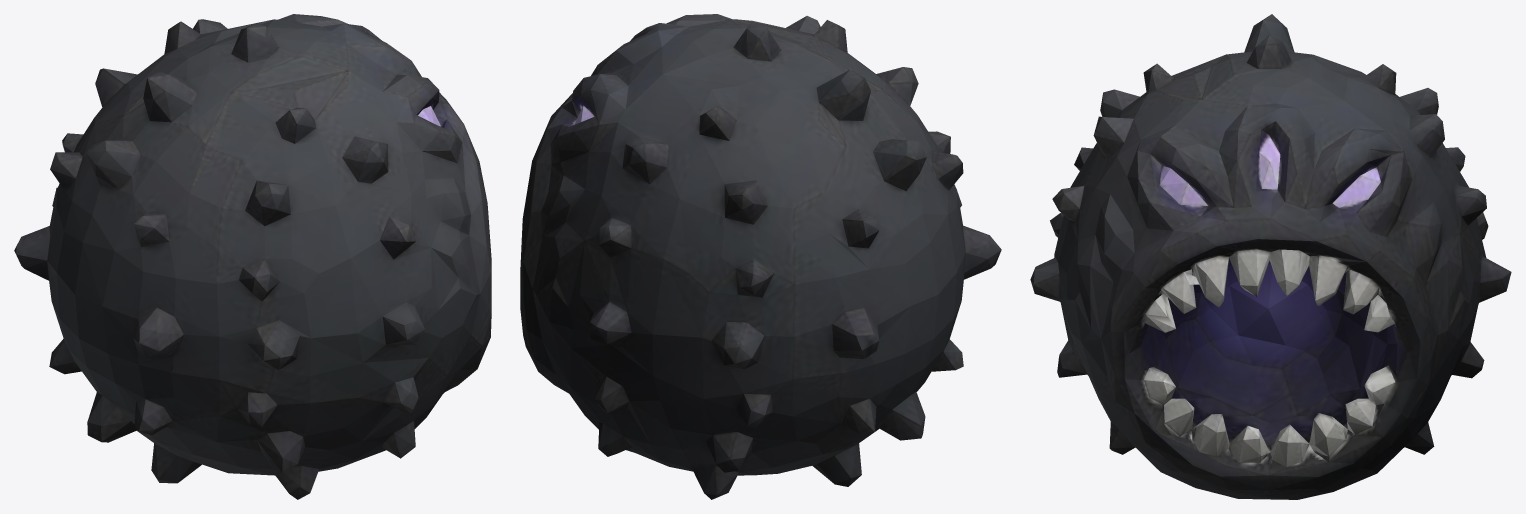
File: foe_voidMote.glb
3 views of the same model, side by side, from view 1: azimuth 30°, elevation 25°; view 2: azimuth 150°, elevation 25°; view 3: azimuth 270°, elevation 25° (orthographic). The views are drawn at different scales.
Parts seen in each view (by area): view 1: tripo_node_8db84553-6282-497c-ab53-4e10670cdeee.001; view 2: tripo_node_8db84553-6282-497c-ab53-4e10670cdeee.001; view 3: tripo_node_8db84553-6282-497c-ab53-4e10670cdeee.001.
Boxes of the visible parts, x1,y1,x2,y2 form: tripo_node_8db84553-6282-497c-ab53-4e10670cdeee.001: [14, 14, 491, 499]; tripo_node_8db84553-6282-497c-ab53-4e10670cdeee.001: [520, 14, 1001, 499]; tripo_node_8db84553-6282-497c-ab53-4e10670cdeee.001: [1030, 14, 1511, 499].
Bounding box in the file's own units: 0.8567 × 0.9749 × 0.9947.
Materials: 1 (1 with a texture image).
